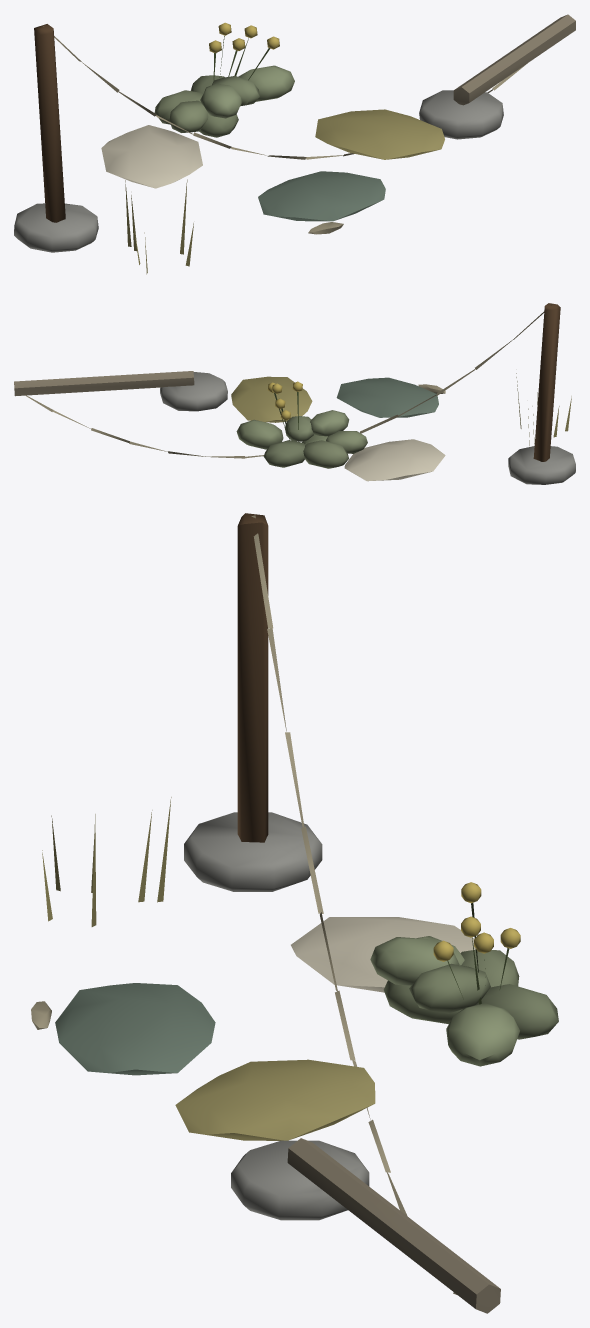
File: laundry_line_c_lod1.glb
The picture shows the model from 3 angles, top to bottom: view 1: azimuth 30°, elevation 25°; view 2: azimuth 150°, elevation 25°; view 3: azimuth 270°, elevation 25°; orthographic projection. The views are drawn at different scales.
Visible parts, largest first — view 1: Surface.001; view 2: Surface.001; view 3: Surface.001.
Boxes of the visible parts, bbox=[...] form: Surface.001: bbox=[14, 14, 575, 274]; Surface.001: bbox=[14, 303, 575, 484]; Surface.001: bbox=[31, 513, 558, 1313].
Bounding box in the file's own units: 4.91 × 1.89 × 2.24.
